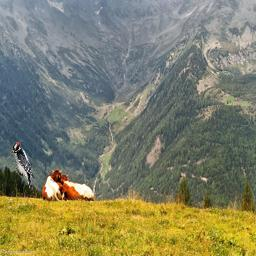Woodpecker: (10, 142, 34, 191)
